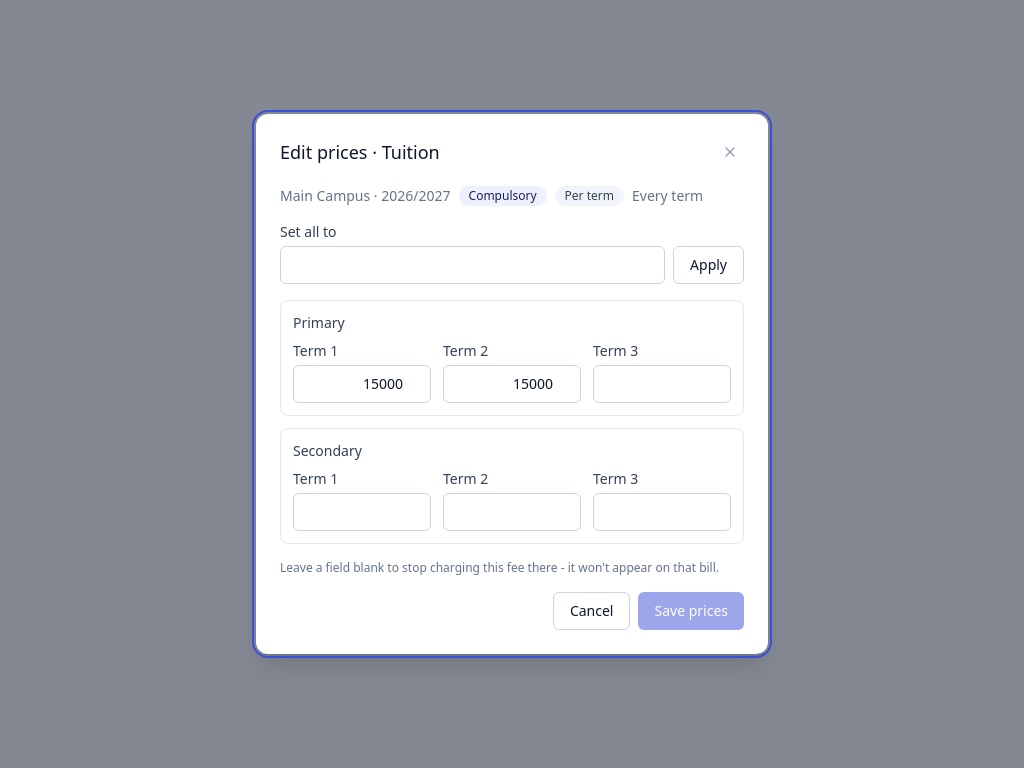
Scenario: FeePricesModal › a per-term fee › a failed row outcome highlights only that level's failing term
Step 1. Type "18000" into the number field with id "fee-price-level-1-3" → (662, 384), box [593,365,731,403]
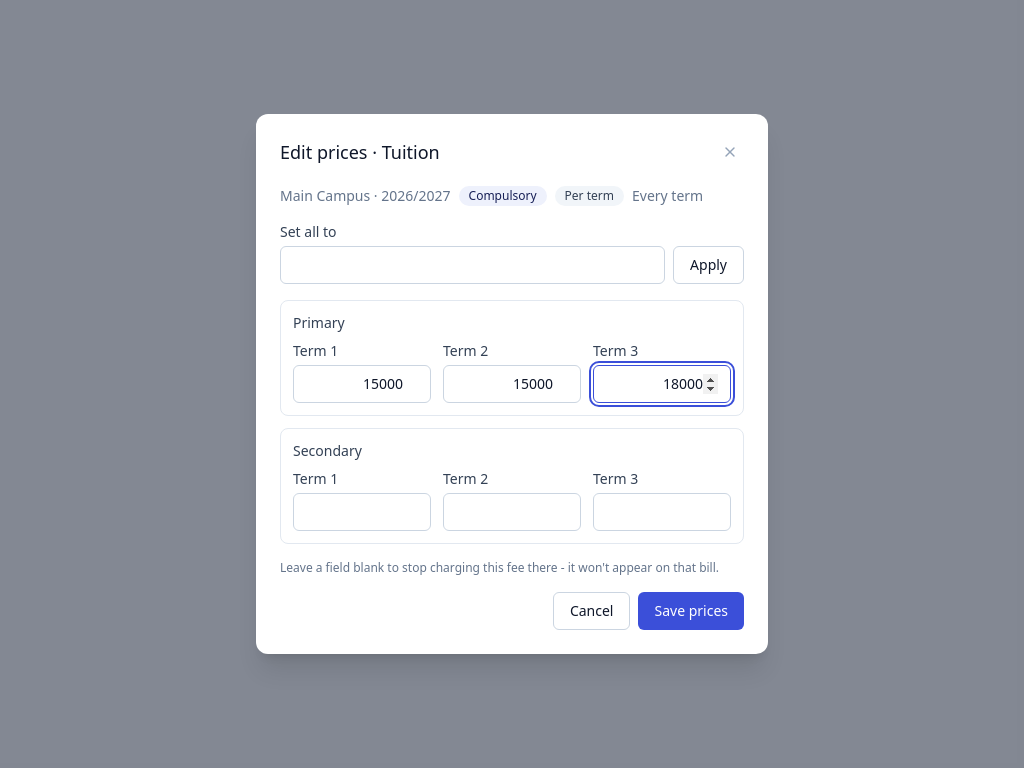
Step 2. Click the button "Save prices" → click(691, 611), box [638,592,744,630]
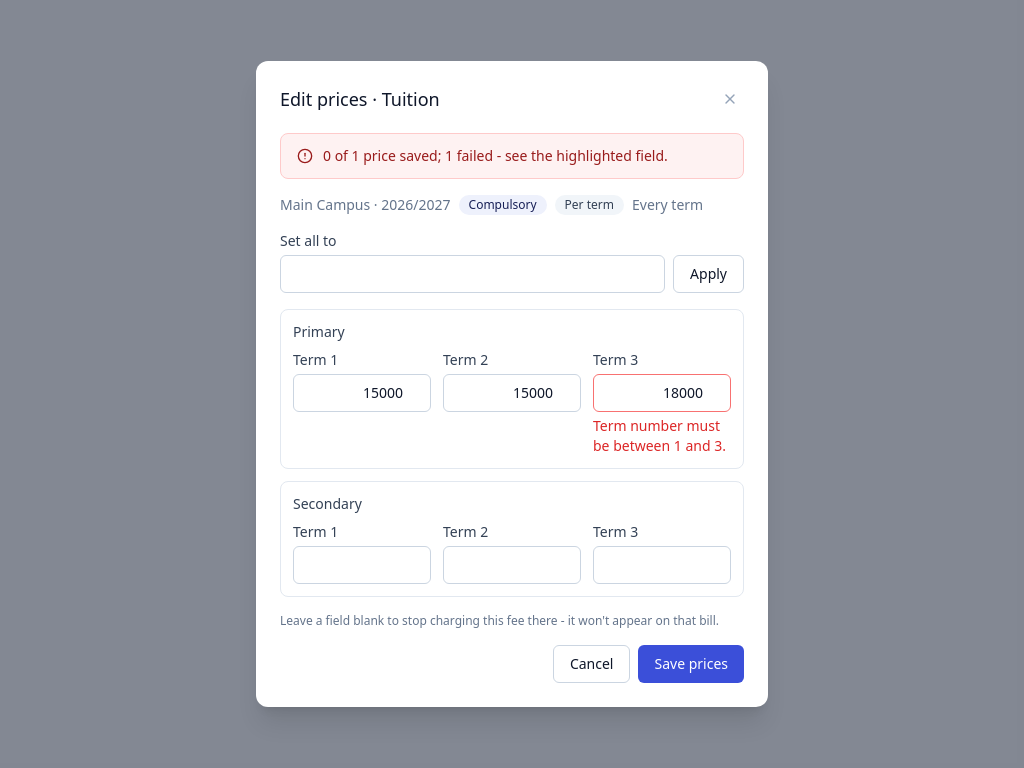
Result: the text "Term number must be between 1 and 3." is shown at [593,416,731,456]
